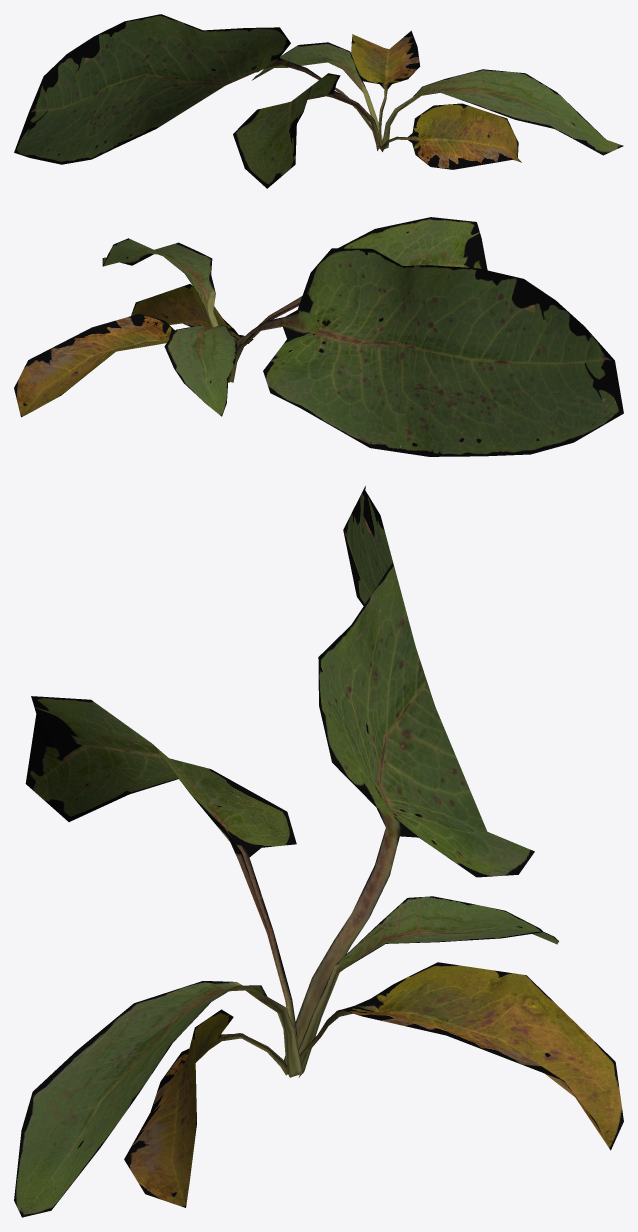
The model's file is weed_plant_02_1k5.glb.
3 views of the same model, one above another, from view 1: azimuth 30°, elevation 25°; view 2: azimuth 150°, elevation 25°; view 3: azimuth 270°, elevation 25° (orthographic). The views are drawn at different scales.
Visible parts, largest first — view 1: weed_plant_02_e_LOD2; view 2: weed_plant_02_e_LOD2; view 3: weed_plant_02_e_LOD2.
Part boxes in pixels (x1,y1,x2,y2): weed_plant_02_e_LOD2: [14, 14, 623, 188]; weed_plant_02_e_LOD2: [14, 217, 623, 456]; weed_plant_02_e_LOD2: [14, 486, 623, 1217].
Size of the model in its own units: 0.1192 by 0.04 by 0.061.
1 material, 1 textured.
